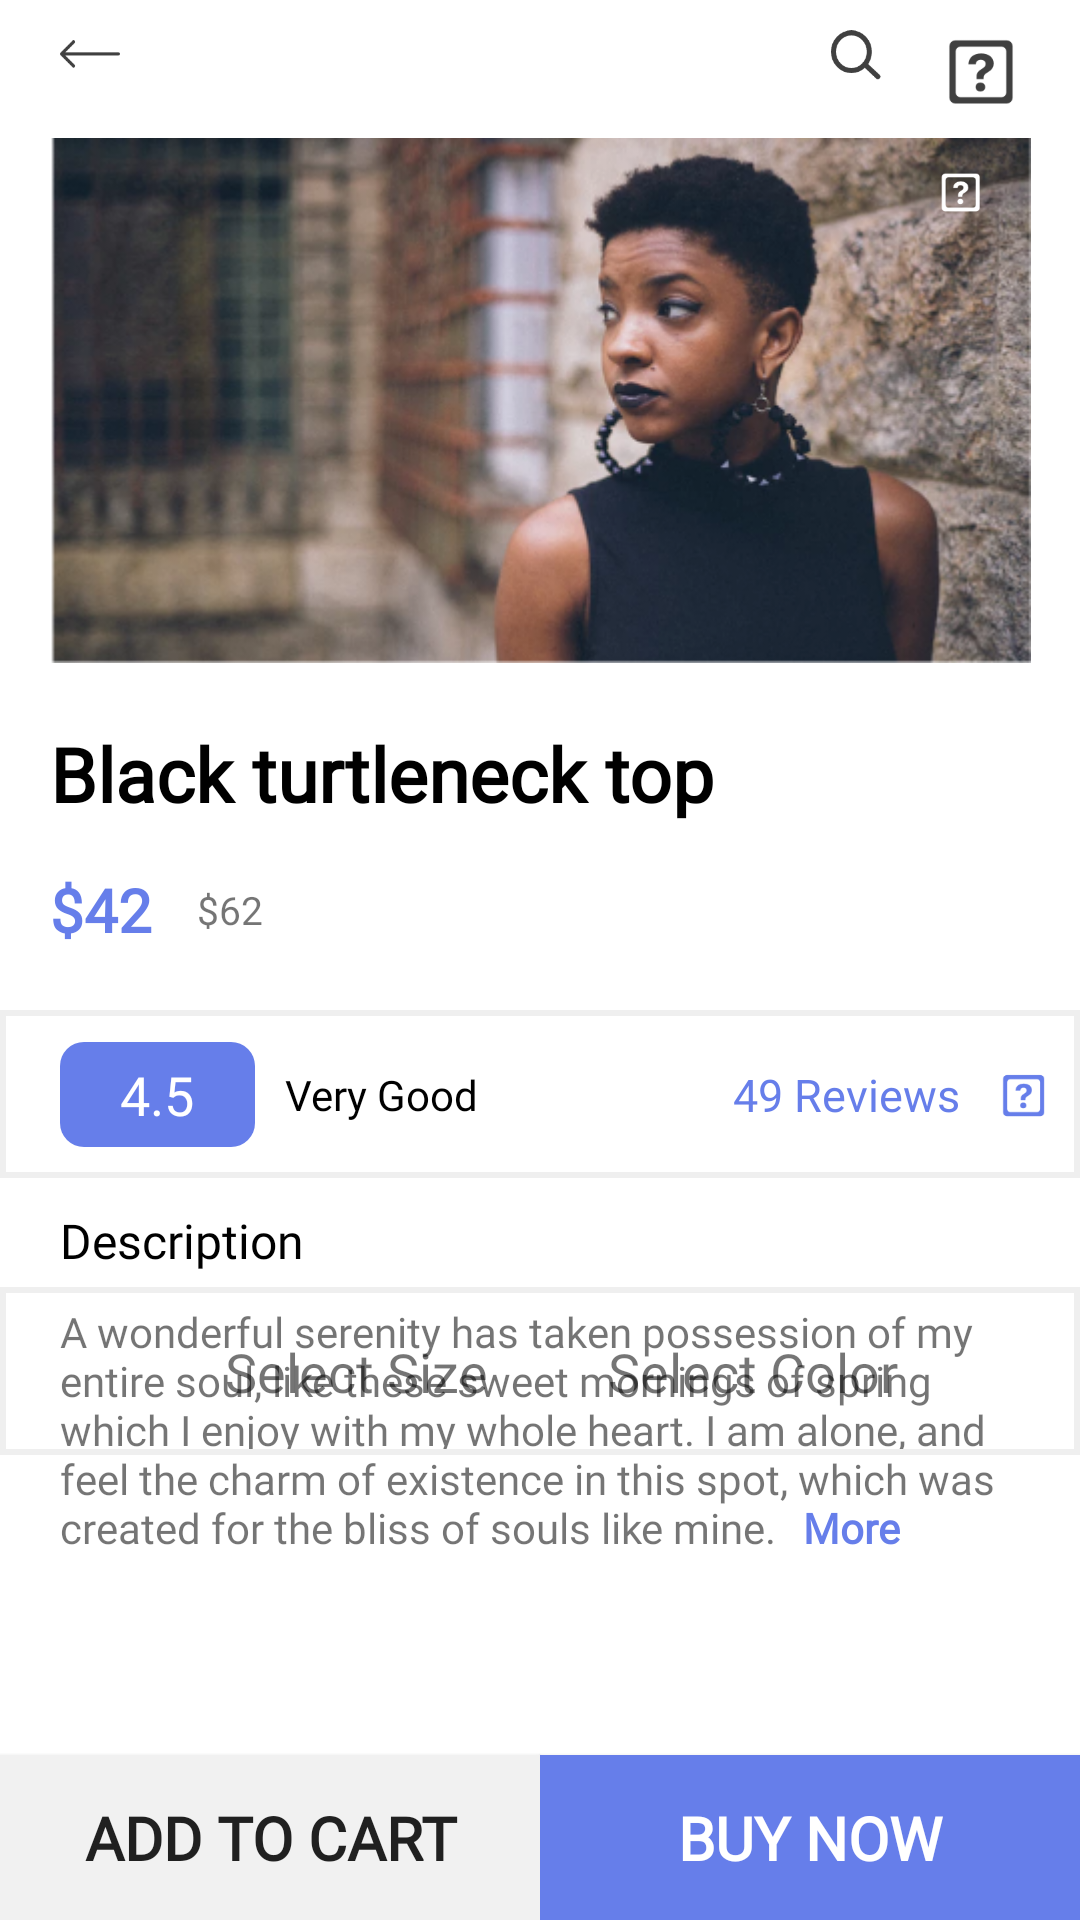

Where to tap for icons on this 1080px×1920px app screen, as point (x, y):
ask: point (981, 72), point (962, 192)
blueask: point (1024, 1096)
search: point (856, 55)
